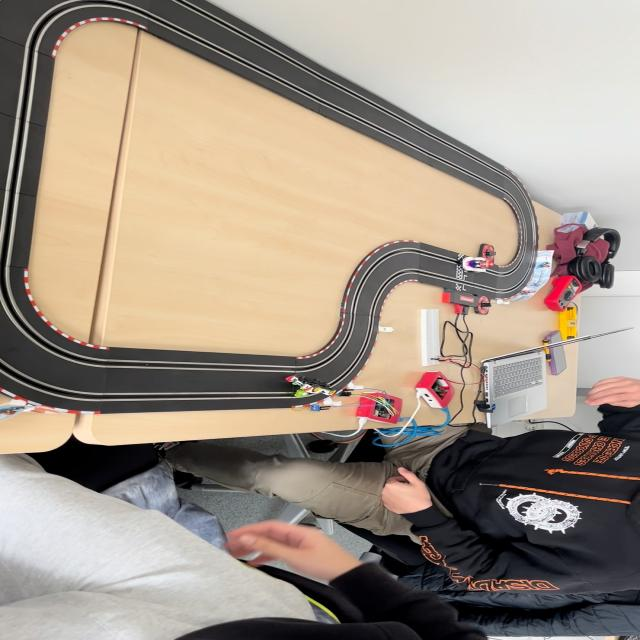mario: (460, 256, 495, 274)
yoshi: (281, 372, 337, 401)
